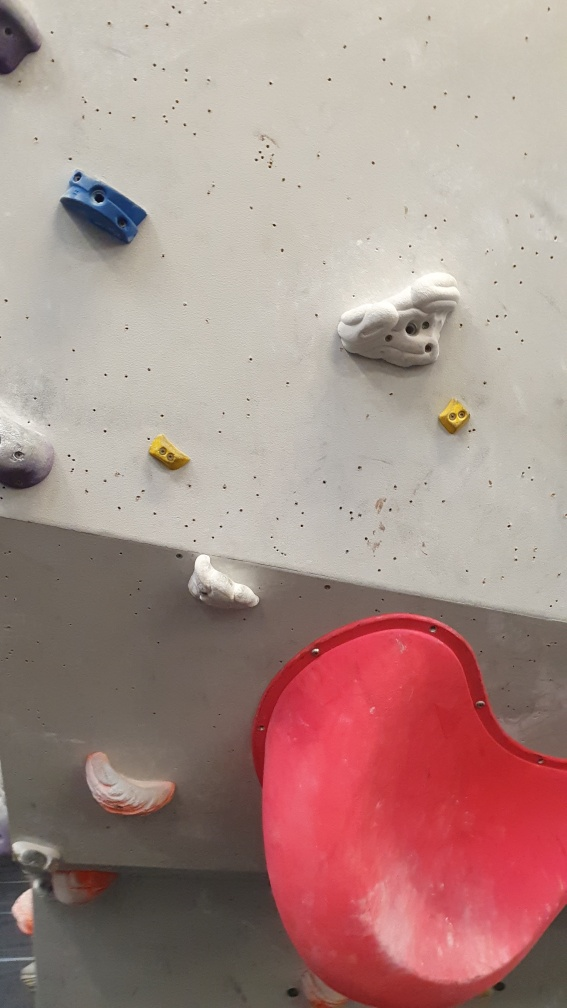Crimp: (147, 426, 197, 475)
Jug: (331, 269, 466, 369), (80, 749, 178, 821), (187, 553, 271, 617)
Pinch: (58, 165, 152, 247), (434, 392, 474, 439)
Sloper: (1, 403, 60, 490)
